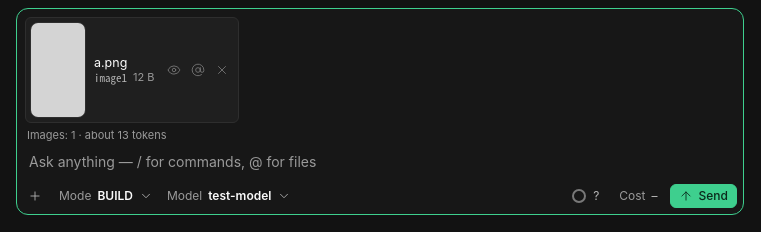
references › offers the attachments first in the @ menu, filters by prefix and inserts @image1
The image size is (761, 232).
Type "look at @im" into the dropdown named "Message".
click(380, 162); type("look at @im")  # box [17,144,743,180]
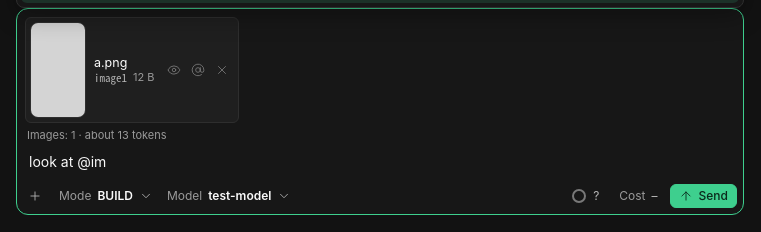
Press Enter in the dropdown named "Message", box [17,144,743,180]
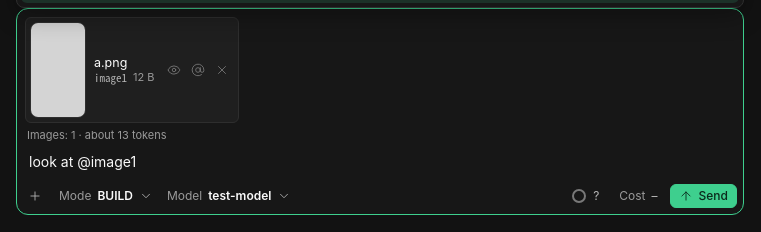
Check: the dropdown named "Message" holds "look at @image1 ", box [17,144,743,180]
